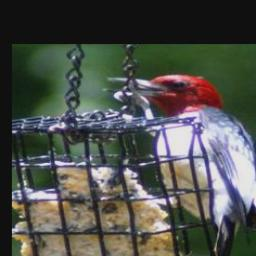Woodpecker: (99, 72, 256, 256)
